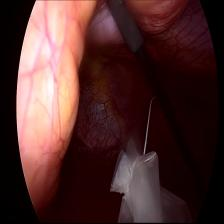Specimen Bag: (107, 129, 185, 224)
